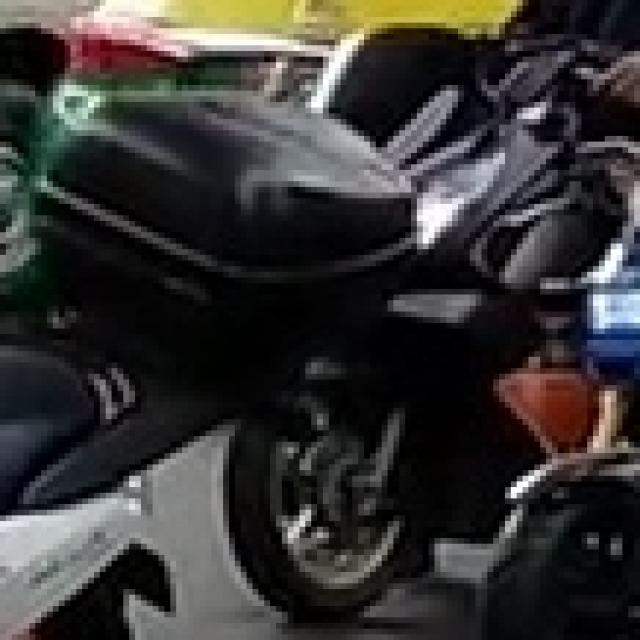door: (0, 0, 634, 634)
tyre: (223, 397, 429, 618), (476, 464, 634, 634)
